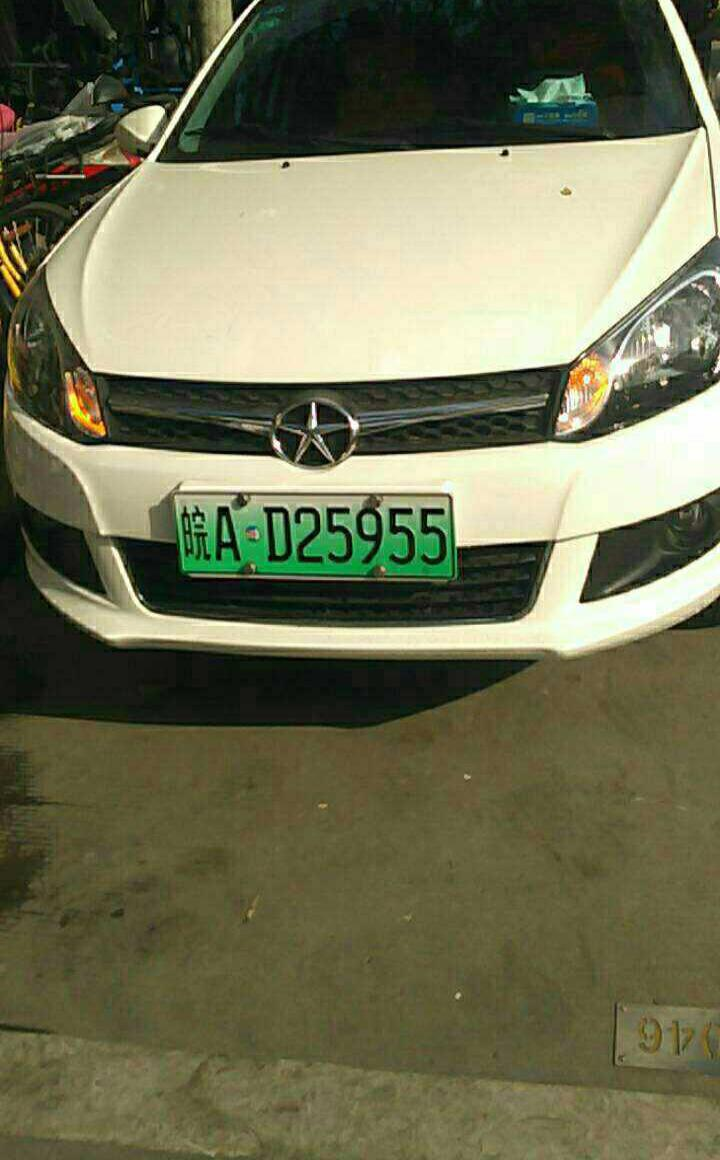car_id: (172, 491, 454, 576)
